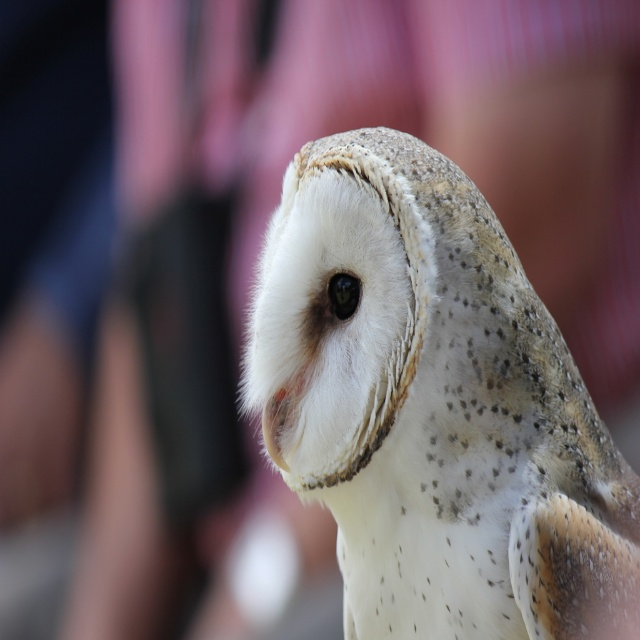Owl: (238, 116, 640, 639)
